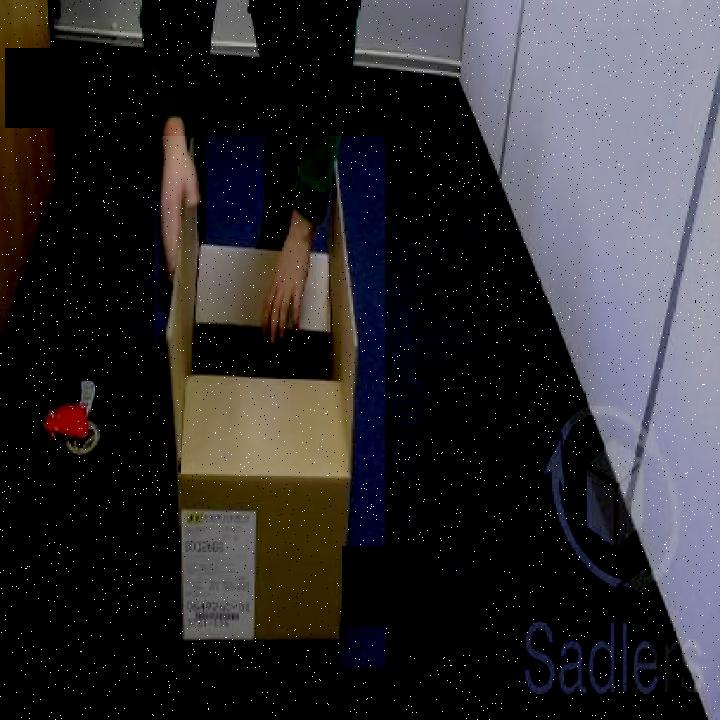box: (155, 136, 385, 667)
